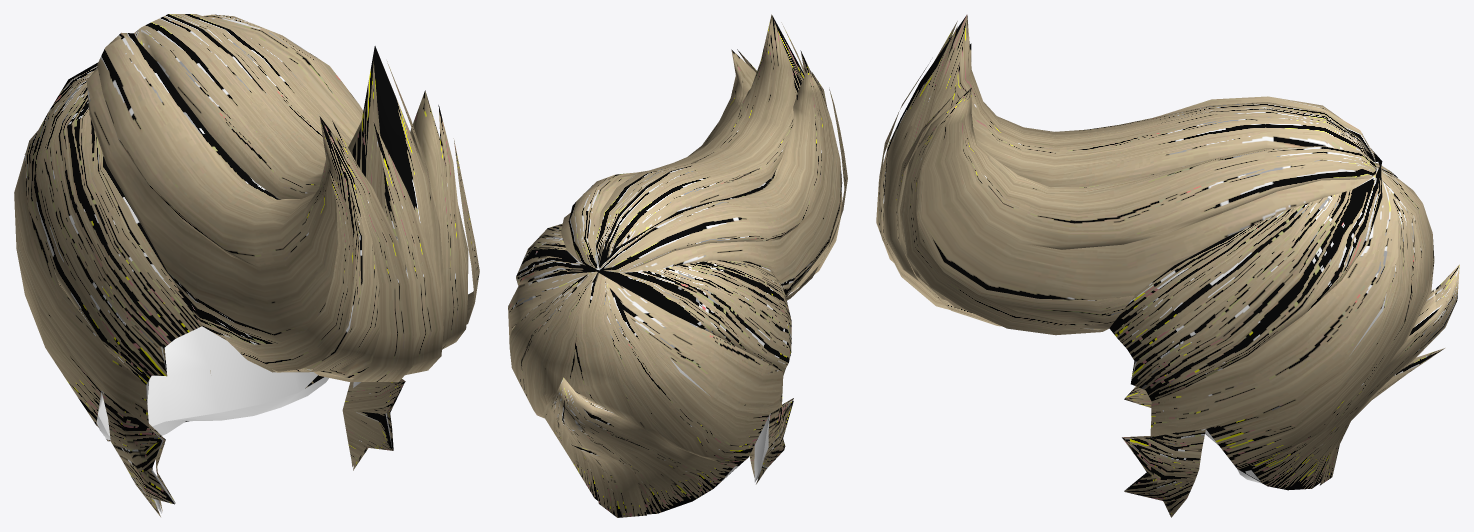
The model's file is p0_hdw1110_00_hdw00.gltf.
The picture shows the model from 3 angles, left to right: view 1: azimuth 30°, elevation 25°; view 2: azimuth 150°, elevation 25°; view 3: azimuth 270°, elevation 25°; orthographic projection. The views are drawn at different scales.
Parts seen in each view (by area): view 1: hdw00_hairup01_mesh_shape:hairup, hdw00_hairup02_mesh_shape:hairup, hdw00_hairstyle_mesh_shape:hairstyle; view 2: hdw00_hairup01_mesh_shape:hairup, hdw00_hairup02_mesh_shape:hairup, hdw00_hairstyle_mesh_shape:hairstyle; view 3: hdw00_hairup01_mesh_shape:hairup, hdw00_hairup02_mesh_shape:hairup.
Boxes of the visible parts, left/top/right/bottom form: hdw00_hairup01_mesh_shape:hairup: left=14, top=14, right=468, bottom=516; hdw00_hairup02_mesh_shape:hairup: left=149, top=61, right=479, bottom=511; hdw00_hairstyle_mesh_shape:hairstyle: left=96, top=326, right=392, bottom=513; hdw00_hairup01_mesh_shape:hairup: left=508, top=14, right=842, bottom=517; hdw00_hairup02_mesh_shape:hairup: left=737, top=22, right=847, bottom=477; hdw00_hairstyle_mesh_shape:hairstyle: left=548, top=246, right=792, bottom=490; hdw00_hairup01_mesh_shape:hairup: left=883, top=14, right=1459, bottom=517; hdw00_hairup02_mesh_shape:hairup: left=876, top=21, right=1163, bottom=501.
Size of what is drawn, in the model's own units: 0.2372 by 0.3872 by 0.4418.
2 materials, 1 textured.
